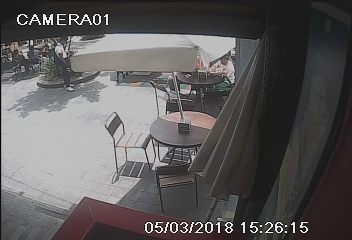libre: (103, 109, 229, 201)
ocupado: (155, 47, 241, 114)
